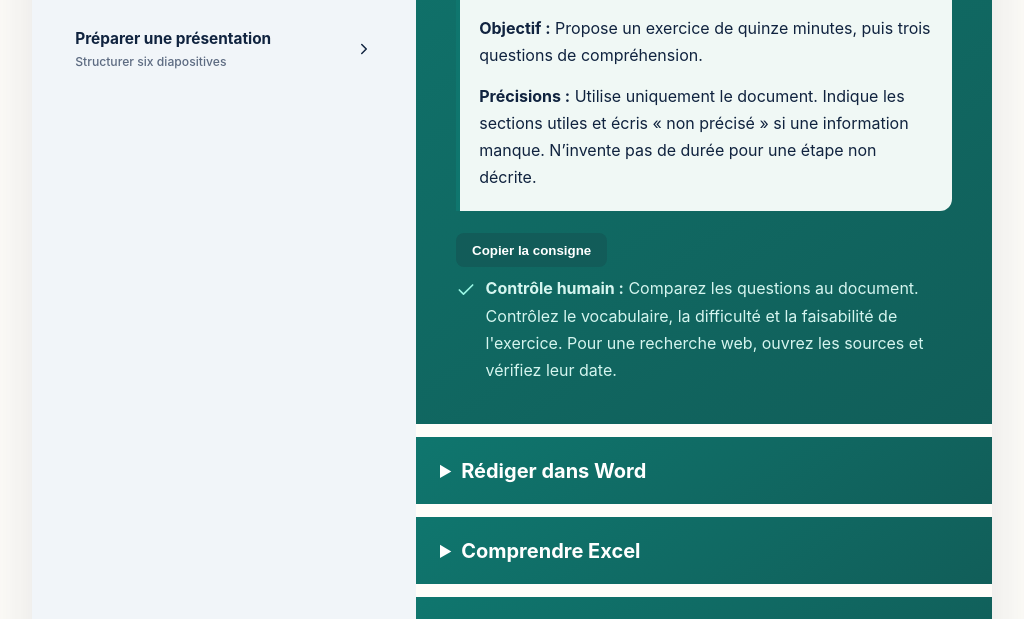
Test case: Nouveaux guides pratiques › copie la consigne affichée et confirme la copie sans envoi externe
(page scrolled)
Click the button "Copier la consigne" at (532, 250), box [456,233,607,267]
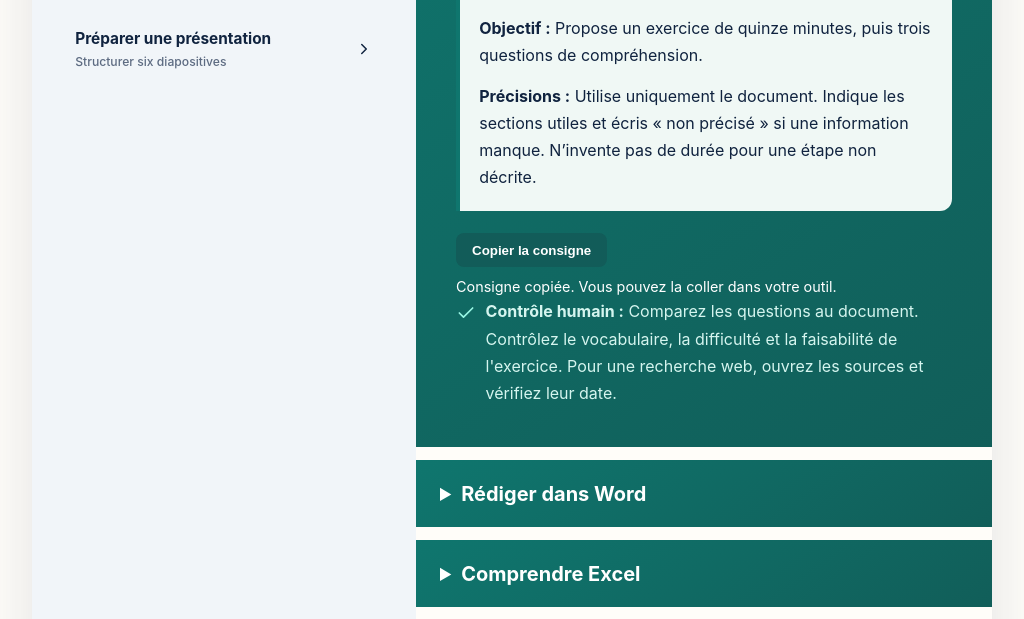
expect the text "Consigne copiée. Vous pouvez la coller dans votre outil." is shown: met, box [456,278,837,295]
